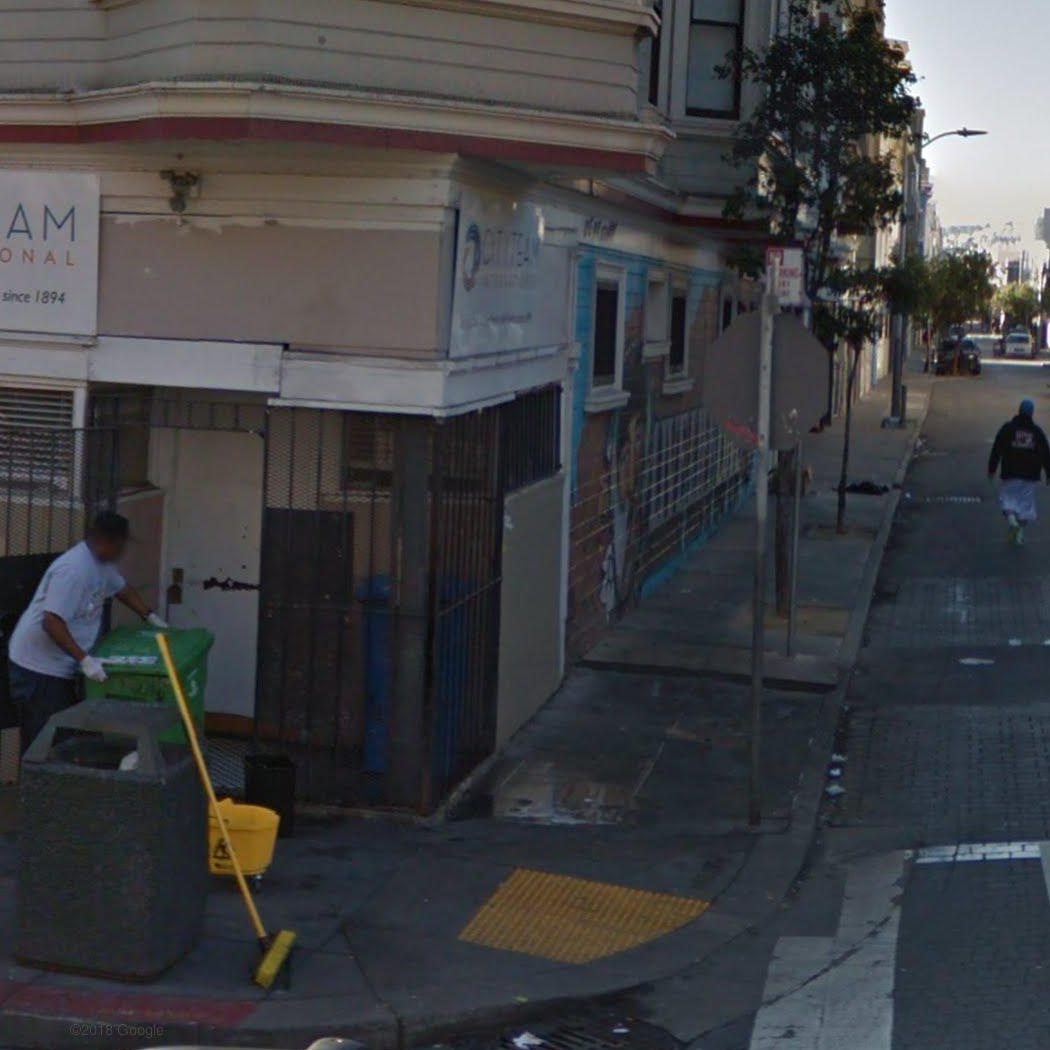No Parking Anytime: (763, 245, 805, 306)
